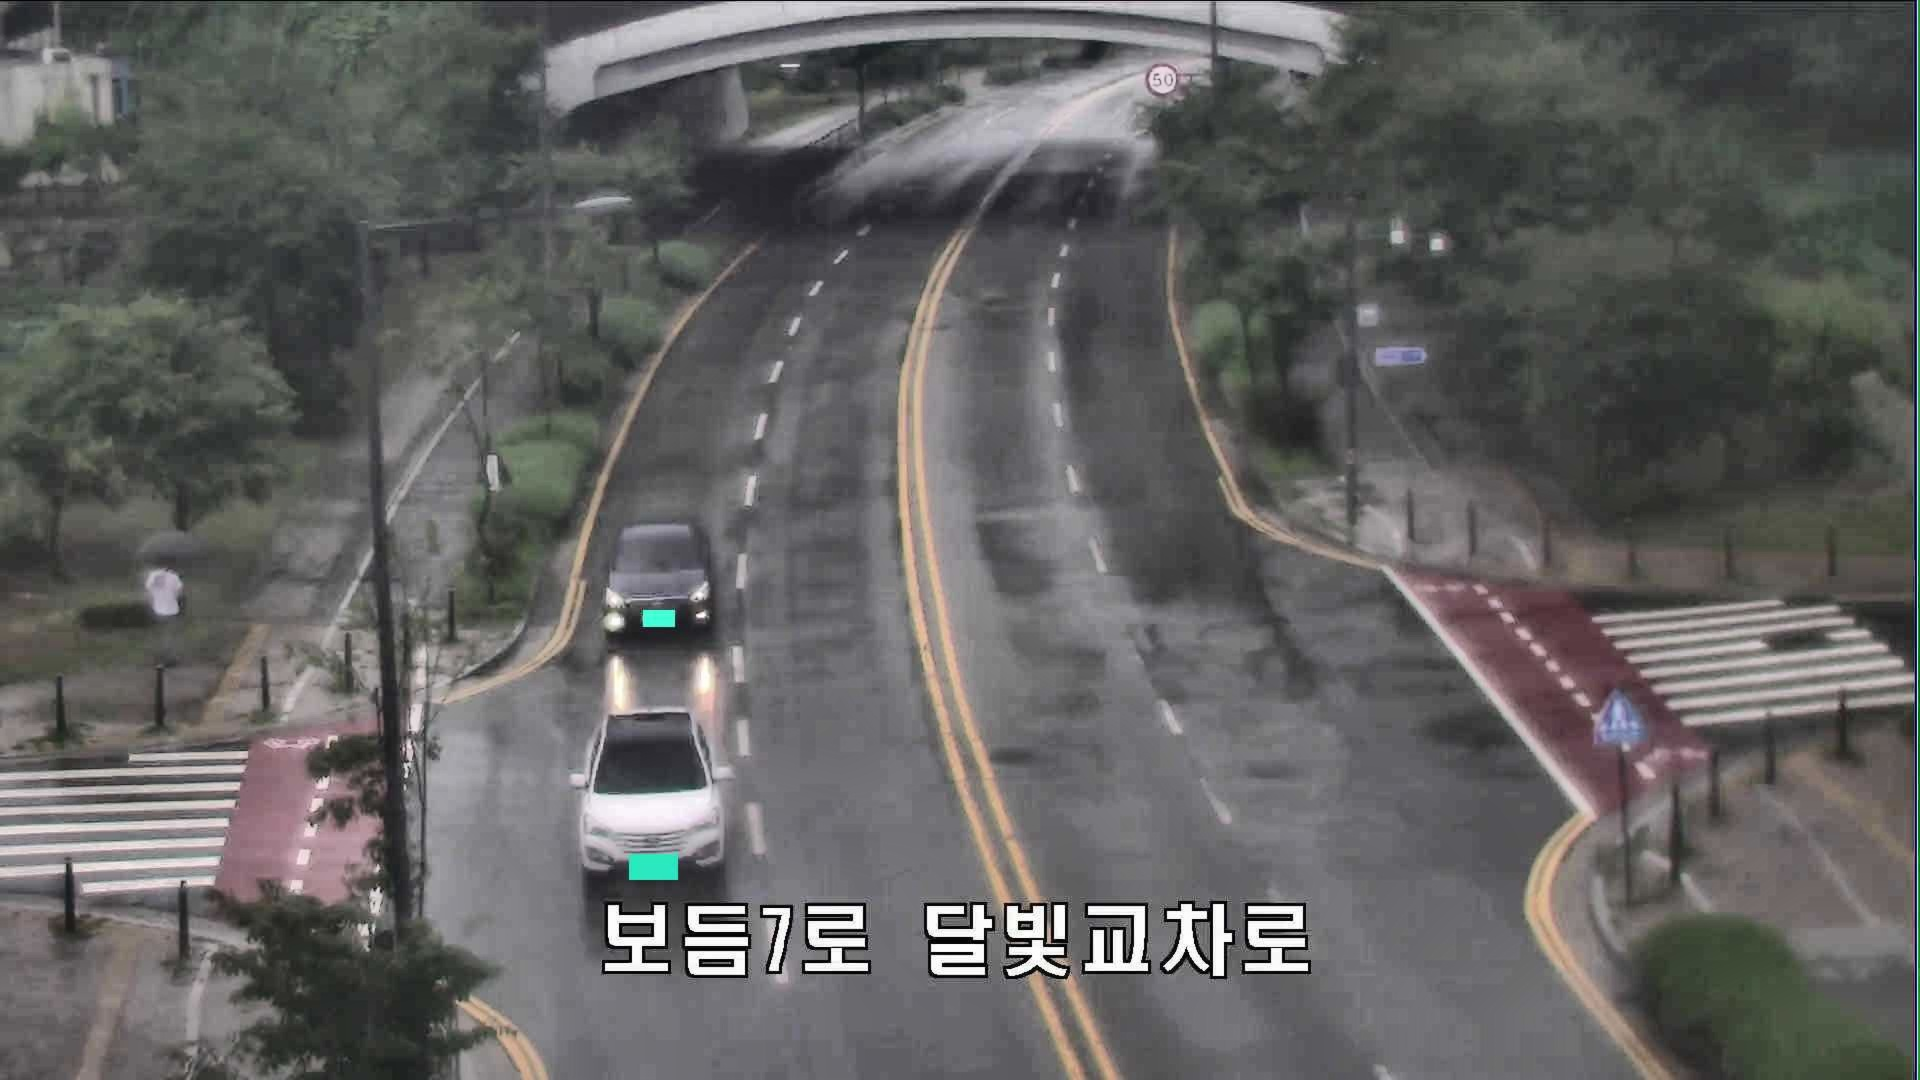um_sidewalk: (142, 531, 208, 667)
